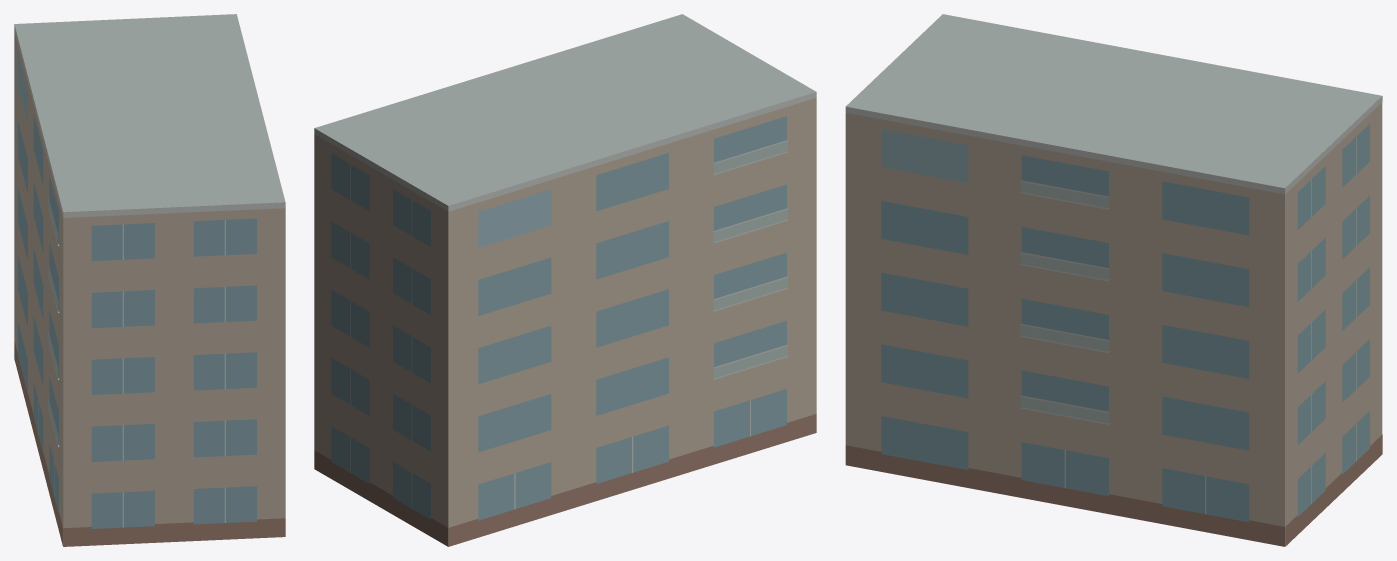
File: survey-upis-32531594.glb
3 renders of one model, left to right at view 1: azimuth 30°, elevation 25°; view 2: azimuth 150°, elevation 25°; view 3: azimuth 270°, elevation 25°, orthographic. The views are drawn at different scales.
Parts seen in each view (by area): view 1: survey-upis-32531594.tmp; view 2: survey-upis-32531594.tmp; view 3: survey-upis-32531594.tmp.
Boxes of the visible parts, x1,y1,x2,y2 form: survey-upis-32531594.tmp: (14,14,285,546); survey-upis-32531594.tmp: (314,14,816,546); survey-upis-32531594.tmp: (845,14,1382,546).
Bounding box in the file's own units: 14.71 × 14.1 × 19.14.
